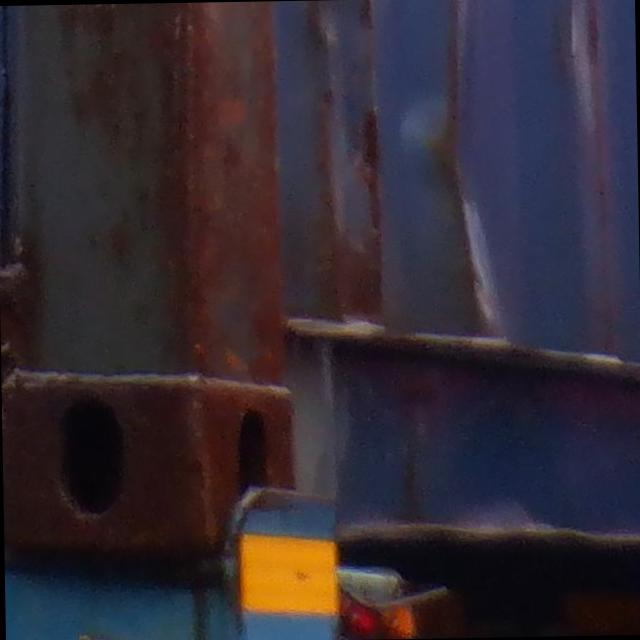Rust: (279, 0, 561, 340)
